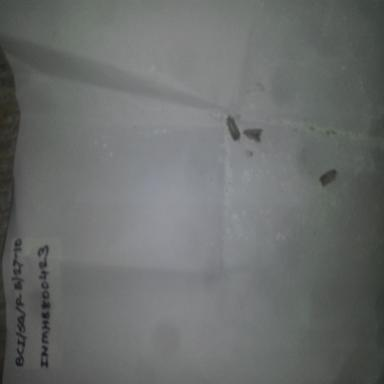pbw: (223, 111, 241, 145), (244, 119, 264, 147), (318, 164, 340, 189)
